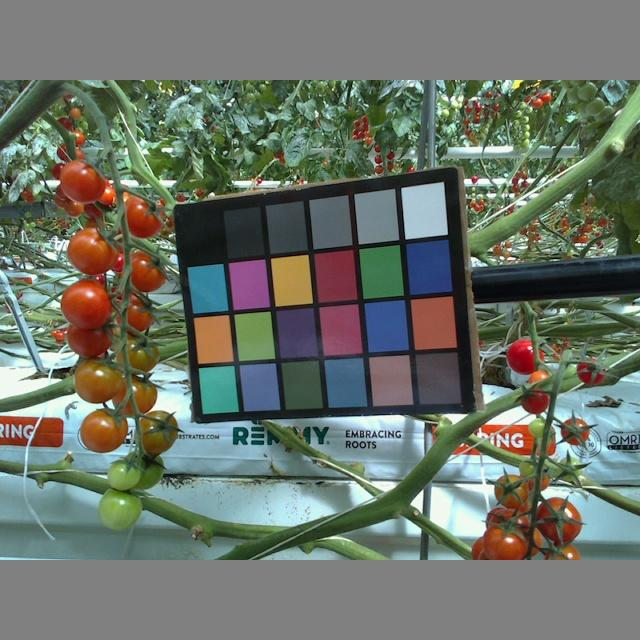green: (98, 491, 142, 535), (123, 450, 166, 494), (104, 459, 142, 492), (528, 415, 551, 437)
pink: (60, 278, 112, 330), (66, 228, 118, 278), (535, 496, 583, 544), (110, 288, 156, 336), (66, 310, 115, 355), (60, 157, 106, 204), (120, 247, 166, 294), (132, 410, 180, 455), (79, 409, 128, 453), (121, 193, 163, 240), (77, 361, 125, 402), (110, 336, 159, 375), (107, 374, 153, 413), (482, 522, 528, 560), (505, 337, 546, 374), (494, 471, 531, 511), (562, 417, 592, 447), (576, 359, 608, 385), (521, 387, 550, 415)
